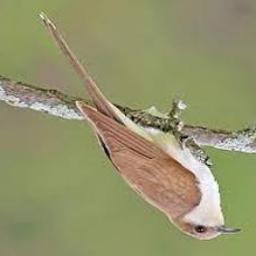Cuckoo: (39, 12, 242, 241)
